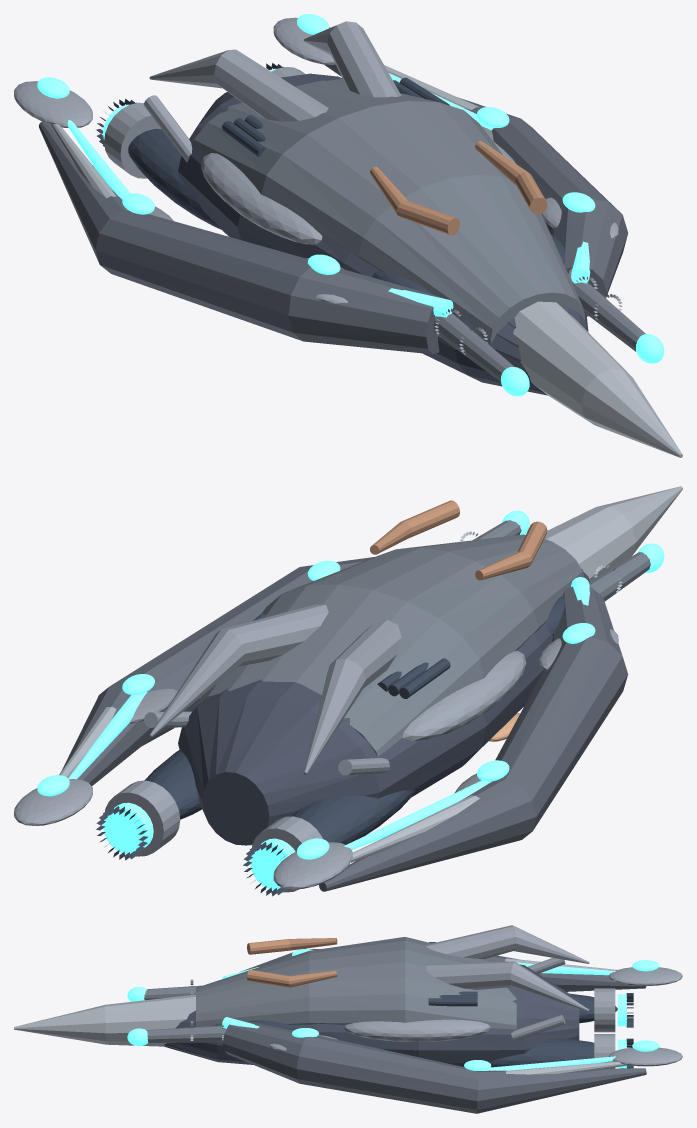
File: npc_saimon.glb
The picture shows the model from 3 angles, top to bottom: view 1: azimuth 30°, elevation 25°; view 2: azimuth 150°, elevation 25°; view 3: azimuth 270°, elevation 25°; orthographic projection. The views are drawn at different scales.
Visible parts, largest first — view 1: upper_armor_scar, armored_scythe_-1, zyron_stinger, armored_scythe_1, keel_pressure_hull, zyron_upper_blade_-1, heavy_shield_pad_-1, zyron_upper_blade_1, engine_armor_-1, scythe_plate_-1_2, exhaust_coil_-1, long_plasma_cannon_-1 (+10 smaller); view 2: upper_armor_scar, keel_pressure_hull, armored_scythe_-1, armored_scythe_1, zyron_upper_blade_1, zyron_stinger, zyron_upper_blade_-1, heavy_shield_pad_-1, engine_armor_-1, exhaust_coil_1, scythe_plate_-1_2, scythe_plate_1_2 (+15 smaller); view 3: upper_armor_scar, armored_scythe_1, keel_pressure_hull, zyron_stinger, zyron_upper_blade_1, zyron_upper_blade_-1, heavy_shield_pad_1, engine_armor_1, armored_scythe_-1, long_plasma_cannon_1, scythe_plate_-1_2, scythe_plate_1_2 (+14 smaller).
Part boxes in pixels (x1,y1,x2,y2): upper_armor_scar: [192, 79, 584, 343]; armored_scythe_-1: [38, 121, 443, 354]; zyron_stinger: [513, 301, 682, 457]; armored_scythe_1: [324, 64, 627, 316]; keel_pressure_hull: [178, 73, 588, 395]; zyron_upper_blade_-1: [149, 49, 328, 121]; heavy_shield_pad_-1: [201, 153, 322, 244]; zyron_upper_blade_1: [303, 21, 401, 97]; engine_armor_-1: [128, 129, 222, 230]; scythe_plate_-1_2: [14, 81, 92, 127]; exhaust_coil_-1: [104, 102, 161, 178]; long_plasma_cannon_-1: [433, 313, 514, 381]; upper_armor_scar: [192, 534, 583, 756]; keel_pressure_hull: [178, 568, 589, 845]; armored_scythe_-1: [319, 587, 628, 891]; armored_scythe_1: [62, 557, 374, 785]; zyron_upper_blade_1: [149, 604, 328, 736]; zyron_stinger: [544, 486, 682, 581]; zyron_upper_blade_-1: [303, 619, 401, 774]; heavy_shield_pad_-1: [402, 650, 526, 741]; engine_armor_-1: [291, 789, 417, 844]; exhaust_coil_1: [105, 780, 180, 856]; scythe_plate_-1_2: [273, 842, 352, 889]; scythe_plate_1_2: [14, 779, 92, 825]; upper_armor_scar: [196, 937, 516, 1029]; armored_scythe_1: [223, 1019, 646, 1113]; keel_pressure_hull: [163, 964, 579, 1066]; zyron_stinger: [14, 994, 195, 1046]; zyron_upper_blade_1: [426, 961, 589, 1011]; zyron_upper_blade_-1: [426, 925, 589, 963]; heavy_shield_pad_1: [344, 1019, 490, 1041]; engine_armor_1: [489, 1038, 594, 1067]; armored_scythe_-1: [240, 948, 646, 991]; long_plasma_cannon_1: [146, 1025, 226, 1043]; scythe_plate_-1_2: [608, 967, 682, 985]; scythe_plate_1_2: [608, 1047, 682, 1066].
Size of the model in its own units: 2.48 by 0.9993 by 5.13.
